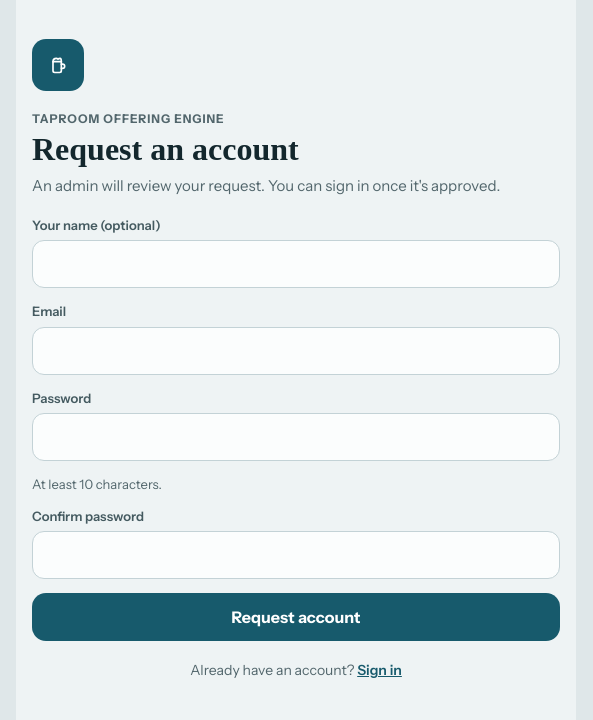
requesting an account › shows the server's message if it refuses a request that was made anyway
Type "Newt" into the field labelled "Your name (optional)". click: (296, 264)
box: x1=32 y1=240 x2=560 y2=288
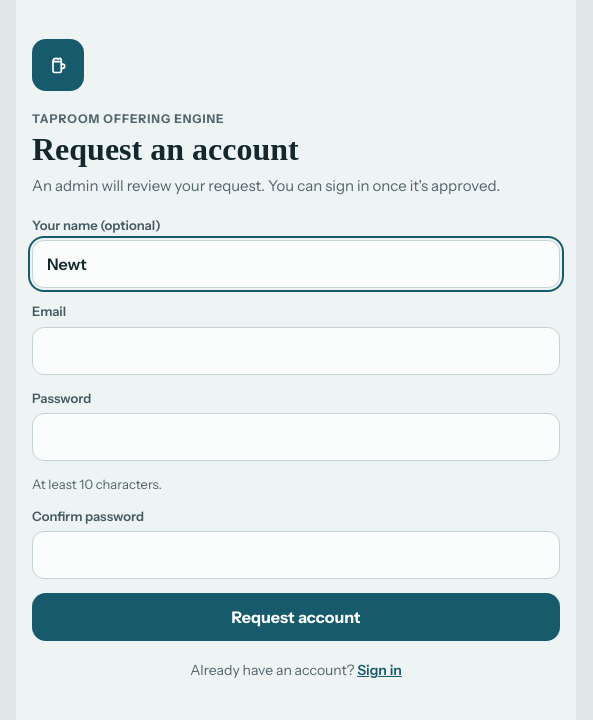
Type "newt@example.com" into the field labelled "Email". click: (296, 351)
box: x1=32 y1=327 x2=560 y2=375
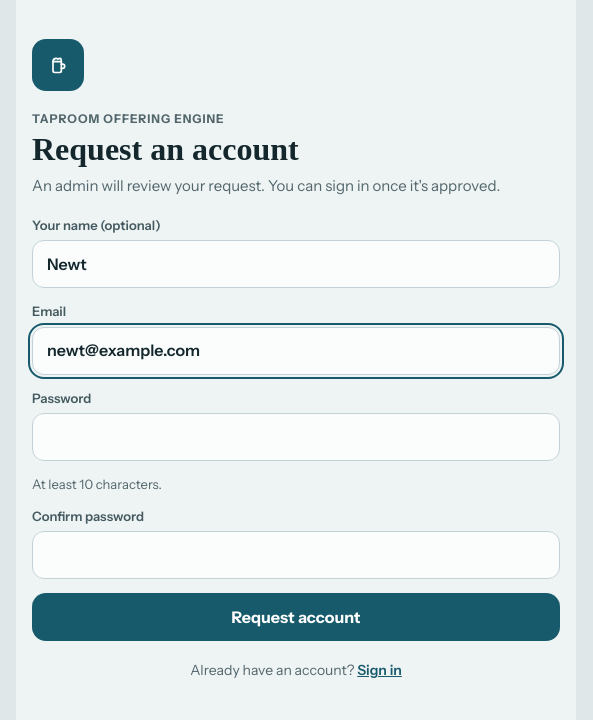
Type "a-long-password" into the password field labelled "Password". click: (296, 437)
box: x1=32 y1=413 x2=560 y2=461
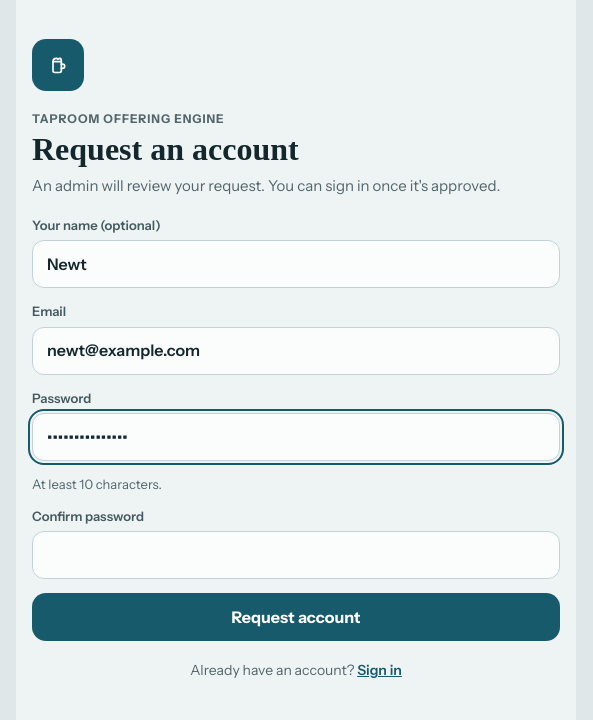
Type "a-long-password" into the password field labelled "Confirm password". click: (296, 555)
box: x1=32 y1=531 x2=560 y2=579
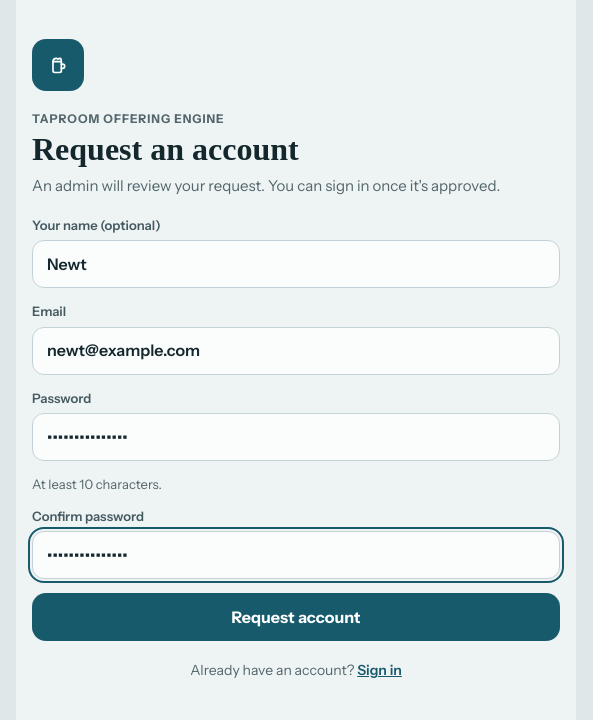
Click the button "Request account". click: (296, 617)
box: x1=32 y1=593 x2=560 y2=641
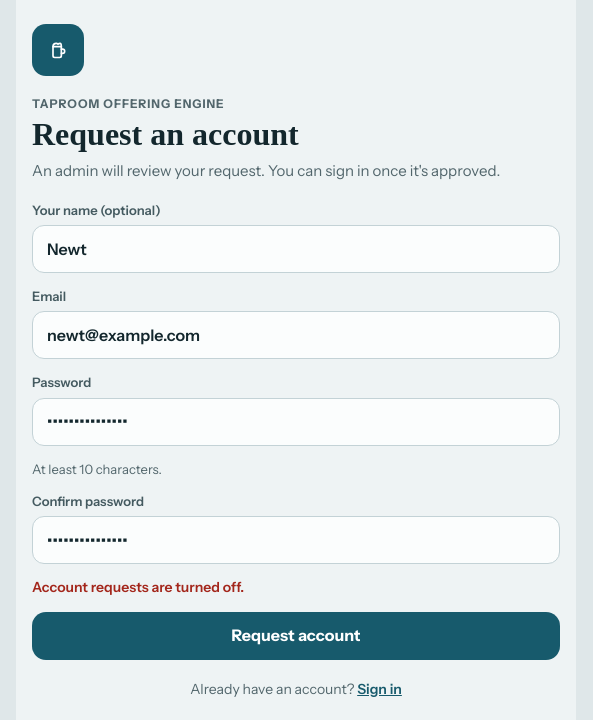
Now the message reads "Account requests are turned off.", box x1=32 y1=578 x2=244 y2=596
